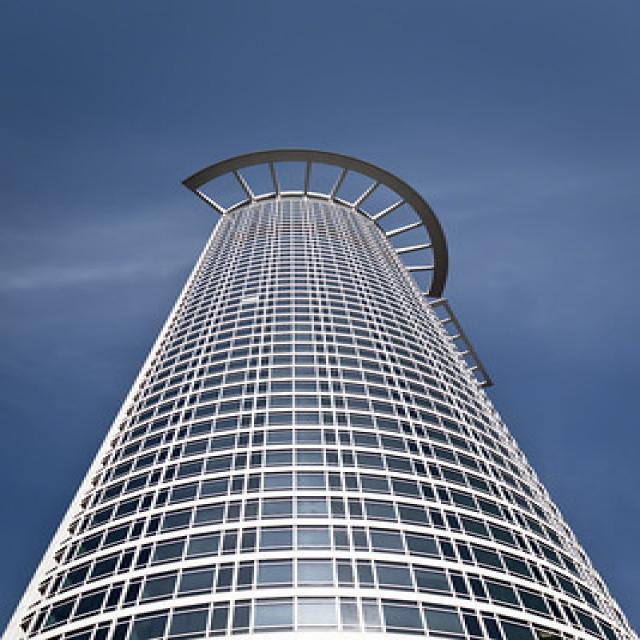Normal_building: (11, 141, 634, 640)
